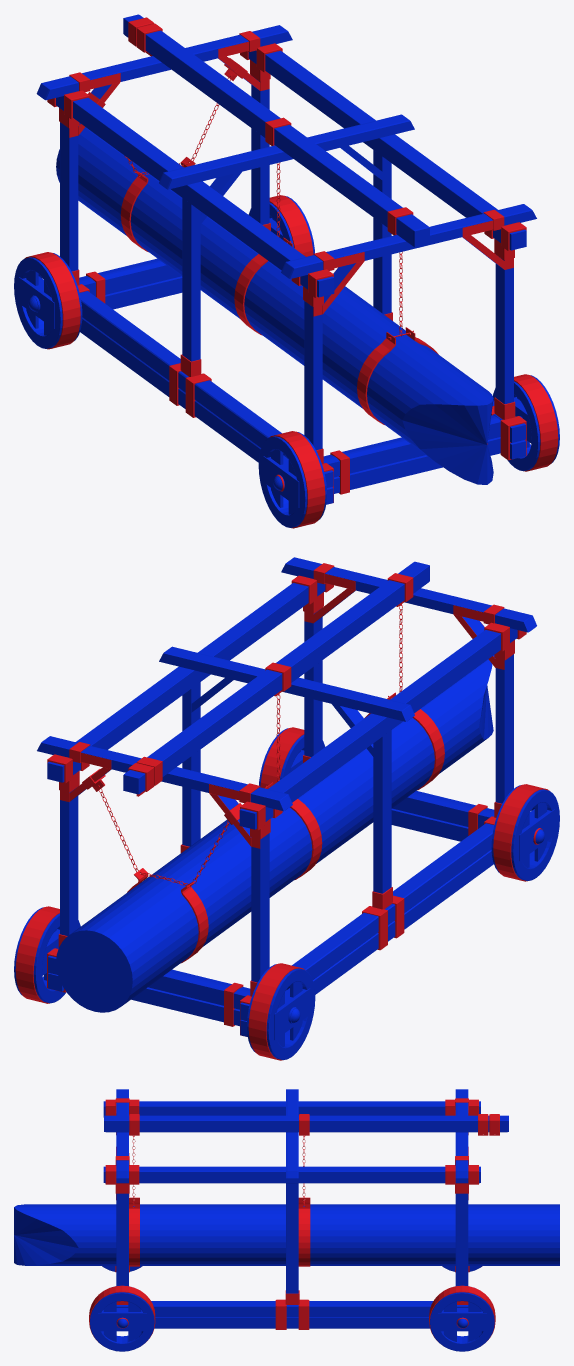
The model's file is Melee Siege.fbx.
The picture shows the model from 3 angles, top to bottom: view 1: azimuth 30°, elevation 25°; view 2: azimuth 150°, elevation 25°; view 3: azimuth 270°, elevation 25°; orthographic projection. The views are drawn at different scales.
Parts seen in each view (by area): view 1: Melee Siege; view 2: Melee Siege; view 3: Melee Siege.
Boxes of the visible parts, x1,y1,x2,y2 form: Melee Siege: [14, 14, 559, 528]; Melee Siege: [14, 557, 559, 1060]; Melee Siege: [14, 1089, 559, 1351].
Bounding box in the file's own units: 427 × 418 × 1078.
